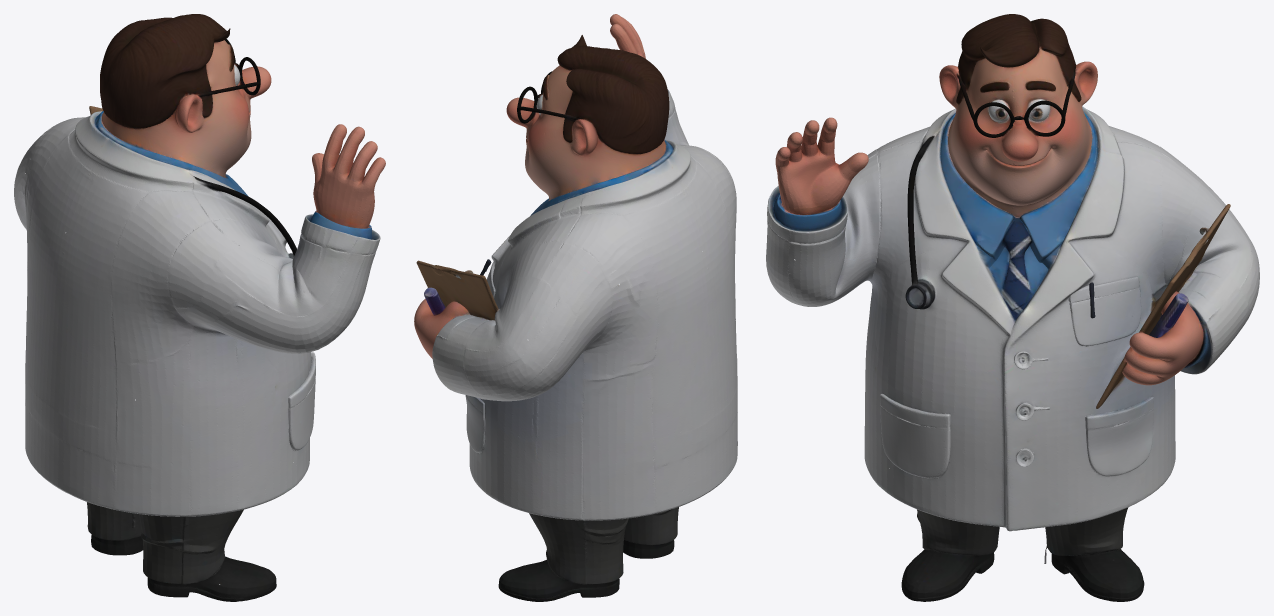
The model's file is therapist.glb.
3 renders of one model, left to right at view 1: azimuth 30°, elevation 25°; view 2: azimuth 150°, elevation 25°; view 3: azimuth 270°, elevation 25°, orthographic. The views are drawn at different scales.
Visible parts, largest first — view 1: tripo_node_6ce4f790-09da-4e86-a2cd-e4b6c3d96b67; view 2: tripo_node_6ce4f790-09da-4e86-a2cd-e4b6c3d96b67; view 3: tripo_node_6ce4f790-09da-4e86-a2cd-e4b6c3d96b67.
Part boxes in pixels (left/top/right/bottom): tripo_node_6ce4f790-09da-4e86-a2cd-e4b6c3d96b67: left=14, top=14, right=385, bottom=601; tripo_node_6ce4f790-09da-4e86-a2cd-e4b6c3d96b67: left=414, top=14, right=737, bottom=601; tripo_node_6ce4f790-09da-4e86-a2cd-e4b6c3d96b67: left=766, top=14, right=1259, bottom=601.
Bounding box in the file's own units: 0.4879 × 0.9995 × 0.8102.
Materials: 1 (1 with a texture image).
